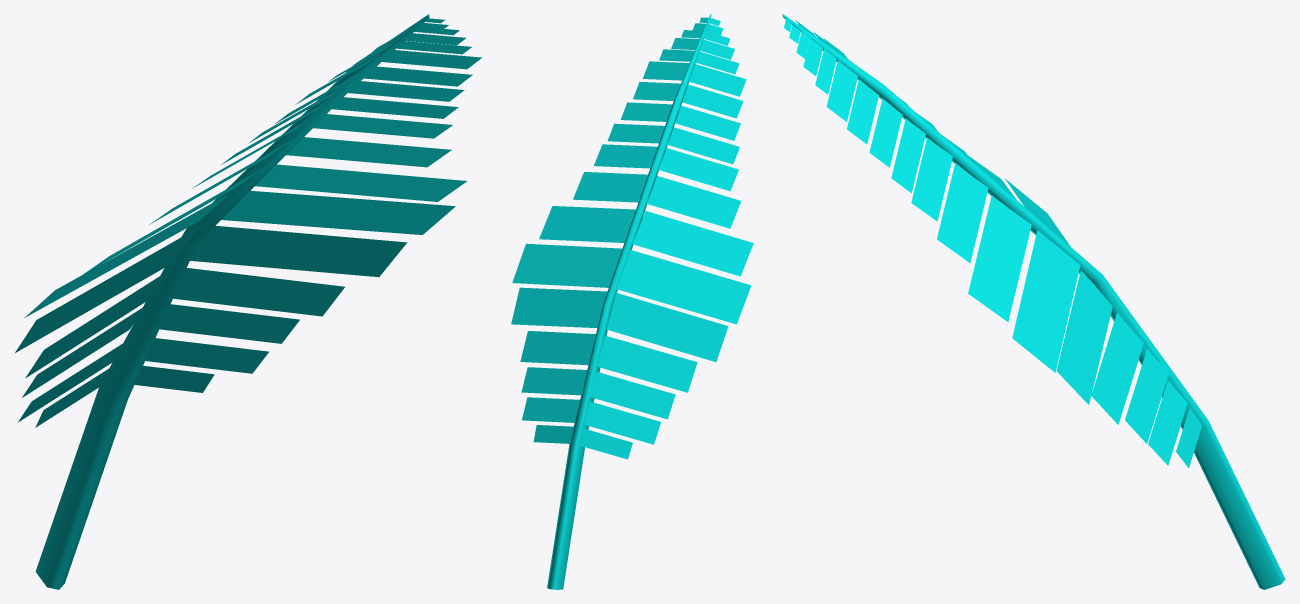
File: sm_FernLeaf.fbx
3 views of the same model, side by side, from view 1: azimuth 30°, elevation 25°; view 2: azimuth 150°, elevation 25°; view 3: azimuth 270°, elevation 25° (orthographic). The views are drawn at different scales.
Visible parts, largest first — view 1: sm_FernLeaf; view 2: sm_FernLeaf; view 3: sm_FernLeaf.
Boxes of the visible parts, x1,y1,x2,y2 form: sm_FernLeaf: (15, 14, 481, 589); sm_FernLeaf: (511, 14, 753, 589); sm_FernLeaf: (782, 14, 1285, 589).
Bounding box in the file's own units: 76.4 × 143 × 110.
